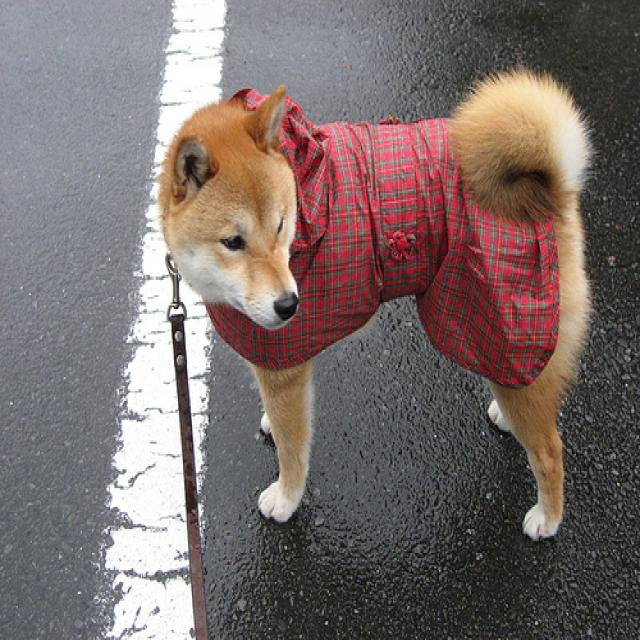dog-shiba_inu: (445, 73, 595, 543)
